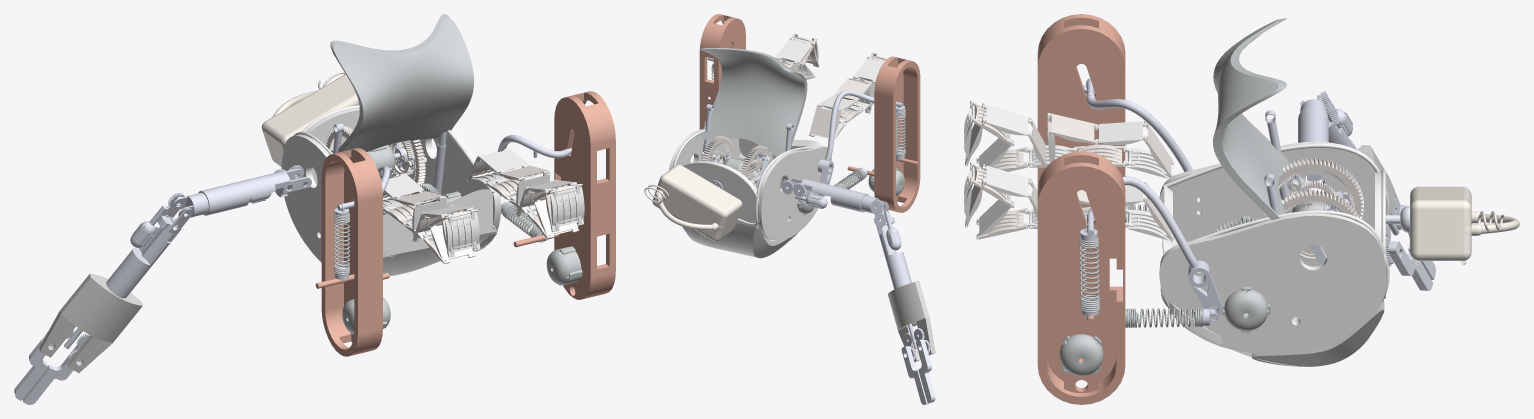
File: robottino.glb
3 views of the same model, side by side, from view 1: azimuth 30°, elevation 25°; view 2: azimuth 150°, elevation 25°; view 3: azimuth 270°, elevation 25° (orthographic). The views are drawn at different scales.
Visible parts, largest first — view 1: Boss-Extrude19, Boss-Extrude6, Cut-Extrude5, Boss-Extrude3, Obj_Cut-Extrude5 (×2), Obj_Mirror1, Mirror2 (×5), Sweep5, Obj_Cut-Extrude1_3 (×2), Cut-Extrude2, Mirror35, Sweep2 (+1 smaller); view 2: Cut-Extrude5, Boss-Extrude19, Boss-Extrude6, Sweep5, Boss-Extrude3, Obj_Cut-Extrude5 (×2), Obj_Mirror1, Mirror2 (×3), Obj_Cut-Extrude1_3 (×2), Mirror1 (×2), Boss-Extrude13, CirPattern3 (×2) (+3 smaller); view 3: Cut-Extrude5, Boss-Extrude3, Boss-Extrude6, Boss-Extrude19, Mirror2 (×8), Sweep5, Mirror1 (×7), Cut-Extrude2 (×2), CirPattern3 (×2), Mirror35, Boss-Extrude35, Sweep2 (×2) (+4 smaller).
Boxes of the visible parts, bbox=[...] form: Boss-Extrude19: bbox=[330, 14, 473, 152]; Boss-Extrude6: bbox=[315, 148, 389, 356]; Cut-Extrude5: bbox=[281, 105, 501, 275]; Boss-Extrude3: bbox=[513, 91, 615, 299]; Obj_Cut-Extrude5 (×2): bbox=[106, 168, 311, 298]; Obj_Mirror1: bbox=[39, 273, 142, 372]; Mirror2 (×5): bbox=[383, 148, 584, 263]; Sweep5: bbox=[261, 71, 359, 166]; Obj_Cut-Extrude1_3 (×2): bbox=[14, 332, 78, 404]; Cut-Extrude2: bbox=[546, 249, 572, 285]; Mirror35: bbox=[495, 135, 571, 196]; Sweep2: bbox=[334, 220, 349, 275]; Cut-Extrude5: bbox=[668, 129, 831, 257]; Boss-Extrude19: bbox=[700, 48, 807, 156]; Boss-Extrude6: bbox=[847, 56, 920, 212]; Sweep5: bbox=[644, 164, 742, 241]; Boss-Extrude3: bbox=[699, 14, 745, 129]; Obj_Cut-Extrude5 (×2): bbox=[787, 178, 911, 289]; Obj_Mirror1: bbox=[888, 281, 935, 362]; Mirror2 (×3): bbox=[776, 38, 883, 111]; Obj_Cut-Extrude1_3 (×2): bbox=[901, 339, 935, 404]; Mirror1 (×2): bbox=[809, 77, 871, 137]; Boss-Extrude13: bbox=[817, 90, 902, 196]; CirPattern3 (×2): bbox=[701, 136, 772, 177]; Cut-Extrude5: bbox=[1159, 142, 1389, 366]; Boss-Extrude3: bbox=[1037, 151, 1125, 404]; Boss-Extrude6: bbox=[1037, 14, 1125, 207]; Boss-Extrude19: bbox=[1212, 18, 1288, 219]; Mirror2 (×8): bbox=[976, 104, 1173, 240]; Sweep5: bbox=[1410, 186, 1519, 265]; Mirror1 (×7): bbox=[970, 100, 1172, 239]; Cut-Extrude2 (×2): bbox=[1059, 287, 1270, 376]; CirPattern3 (×2): bbox=[1263, 158, 1363, 252]; Mirror35: bbox=[1086, 176, 1222, 317]; Boss-Extrude35: bbox=[1251, 301, 1384, 366]; Sweep2 (×2): bbox=[1079, 236, 1203, 327].
Size of the model in its own units: 0.7023 by 0.5242 by 0.6328.
